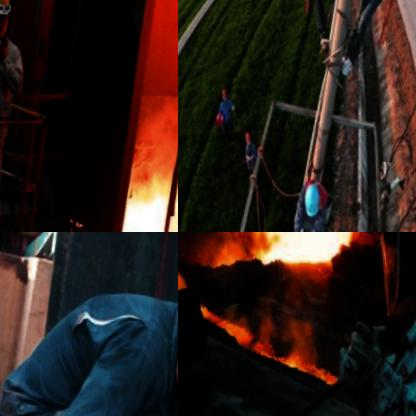helmet: (370, 232, 416, 295), (297, 179, 326, 221), (0, 0, 16, 42)
